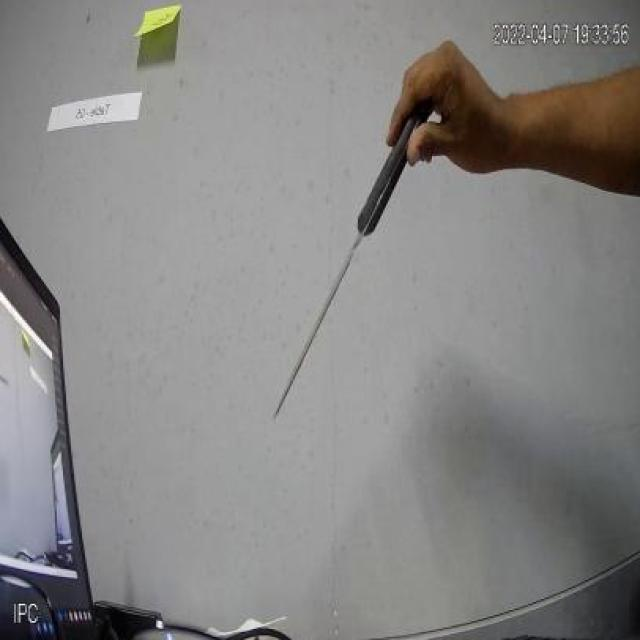Knife: (252, 114, 418, 430)
